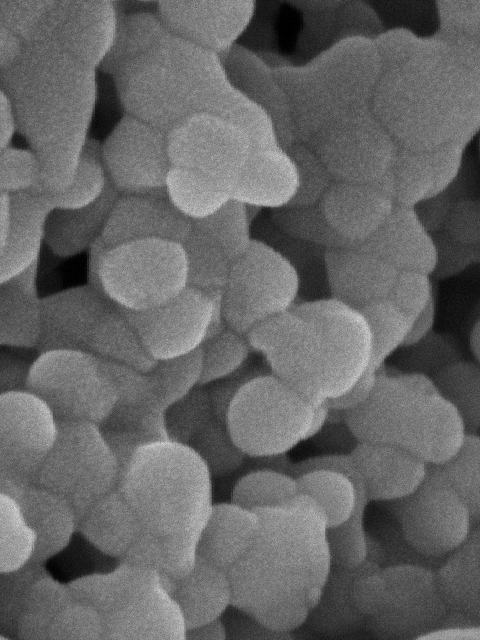nano: (89, 233, 195, 310), (221, 378, 319, 460), (1, 390, 59, 477)
